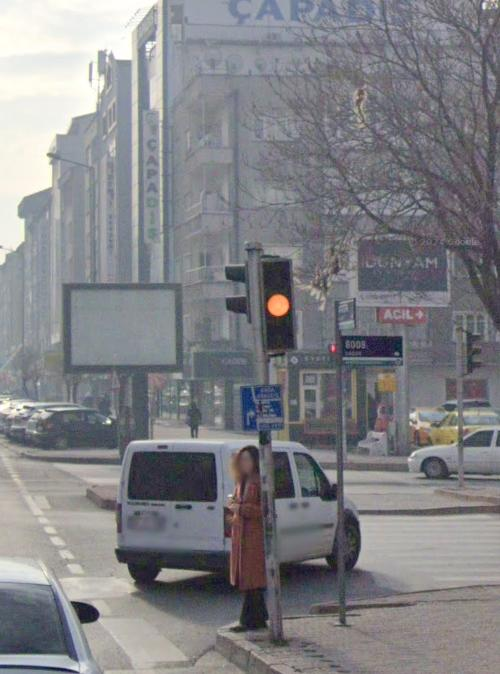yellowlight: (255, 255, 297, 355)
